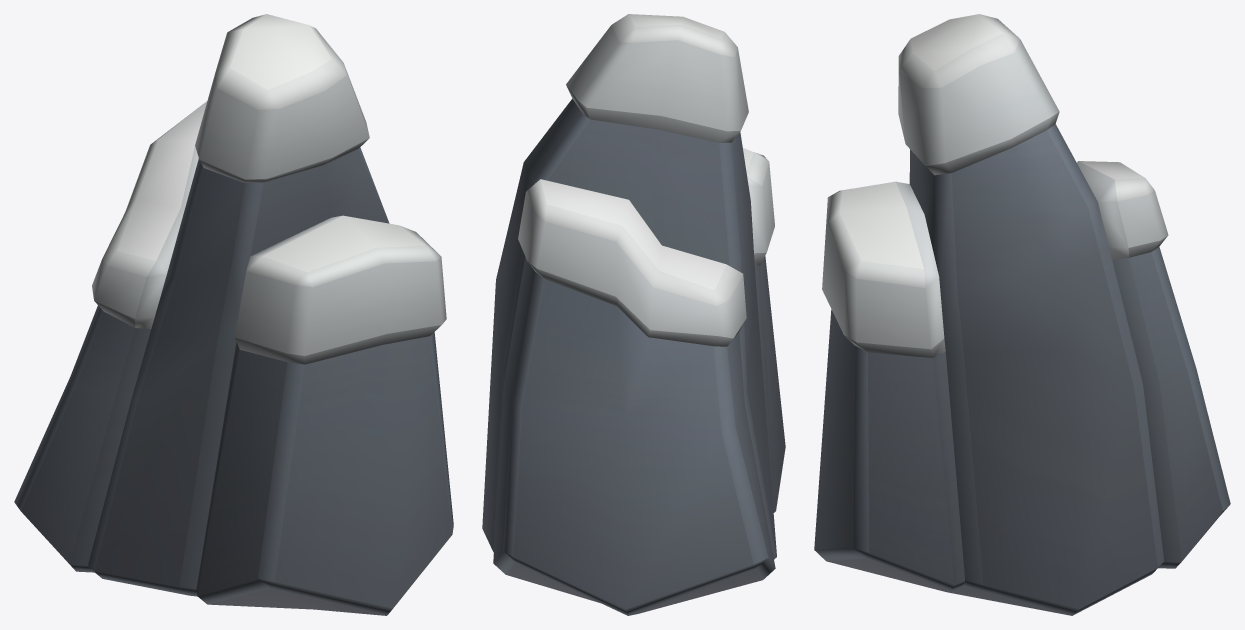
Rendered from rock_snow_012.fbx.
3 renders of one model, left to right at view 1: azimuth 30°, elevation 25°; view 2: azimuth 150°, elevation 25°; view 3: azimuth 270°, elevation 25°, orthographic. The views are drawn at different scales.
Visible parts, largest first — view 1: rock_snow_012; view 2: rock_snow_012; view 3: rock_snow_012.
Boxes of the visible parts, left/top/right/bottom form: rock_snow_012: left=14, top=14, right=453, bottom=615; rock_snow_012: left=482, top=14, right=785, bottom=615; rock_snow_012: left=814, top=14, right=1230, bottom=615.
Size of the model in its own units: 171 by 297 by 202.
